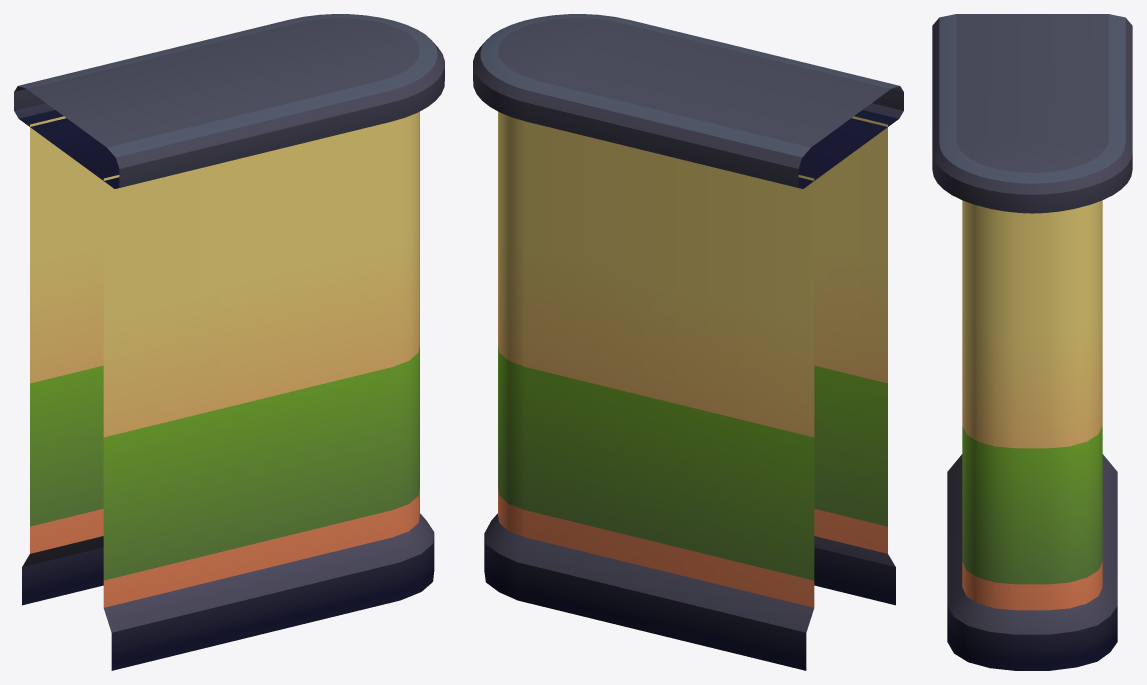
Rendered from wall_end.fbx.
3 renders of one model, left to right at view 1: azimuth 30°, elevation 25°; view 2: azimuth 150°, elevation 25°; view 3: azimuth 270°, elevation 25°, orthographic. The views are drawn at different scales.
Parts seen in each view (by area): view 1: wall_end; view 2: wall_end; view 3: wall_end.
Boxes of the visible parts, x1=… form: wall_end: x1=14, y1=14, x2=444, y2=670; wall_end: x1=473, y1=14, x2=903, y2=670; wall_end: x1=932, y1=14, x2=1132, y2=670.
Bounding box in the file's own units: 147 × 200 × 73.48.
